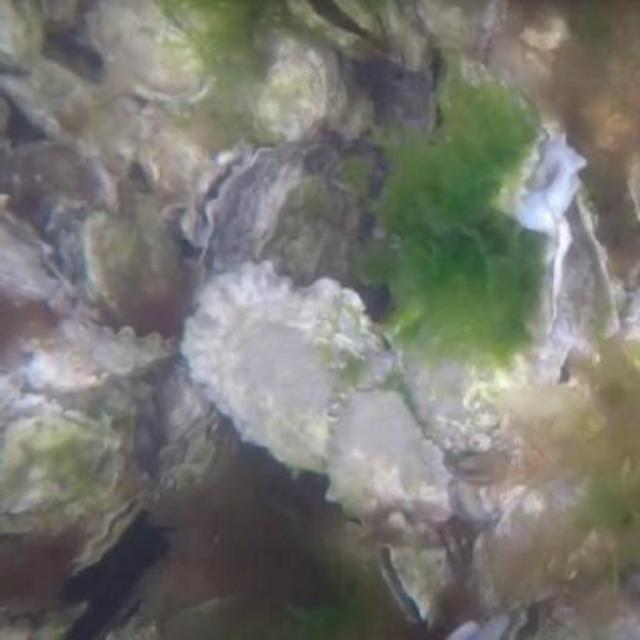Oyster-Closed: (189, 262, 459, 520), (0, 389, 125, 528), (0, 52, 134, 173), (86, 0, 209, 109), (83, 205, 183, 337), (488, 493, 562, 616), (253, 42, 329, 154), (122, 106, 205, 208), (410, 0, 493, 60), (0, 0, 49, 67)
Oyster-Open: (548, 186, 618, 342), (488, 124, 579, 236), (67, 466, 154, 579), (365, 537, 459, 637), (0, 193, 69, 310), (178, 149, 254, 247), (281, 0, 382, 64)
